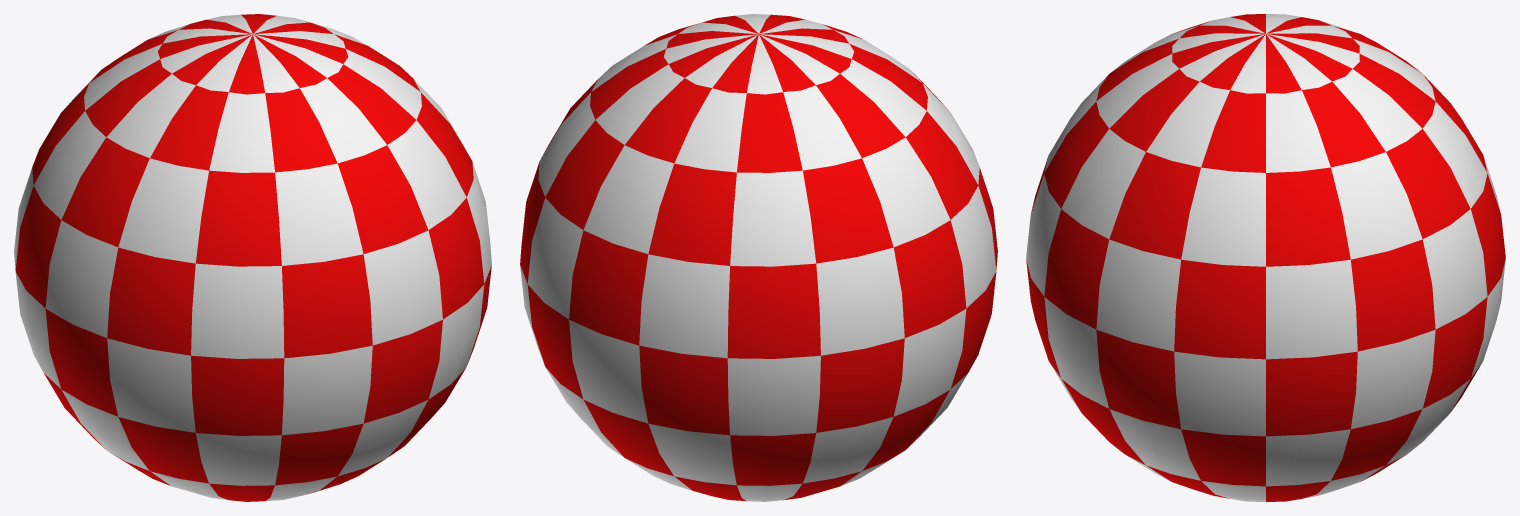
File: Smooth_Red.fbx
3 views of the same model, side by side, from view 1: azimuth 30°, elevation 25°; view 2: azimuth 150°, elevation 25°; view 3: azimuth 270°, elevation 25° (orthographic).
Visible parts, largest first — view 1: smooth_red; view 2: smooth_red; view 3: smooth_red.
Part boxes in pixels (x1,y1,x2,y2): smooth_red: (14,14,491,501); smooth_red: (520,14,997,501); smooth_red: (1026,14,1505,501).
Bounding box in the file's own units: 1.92 × 1.98 × 1.92.
